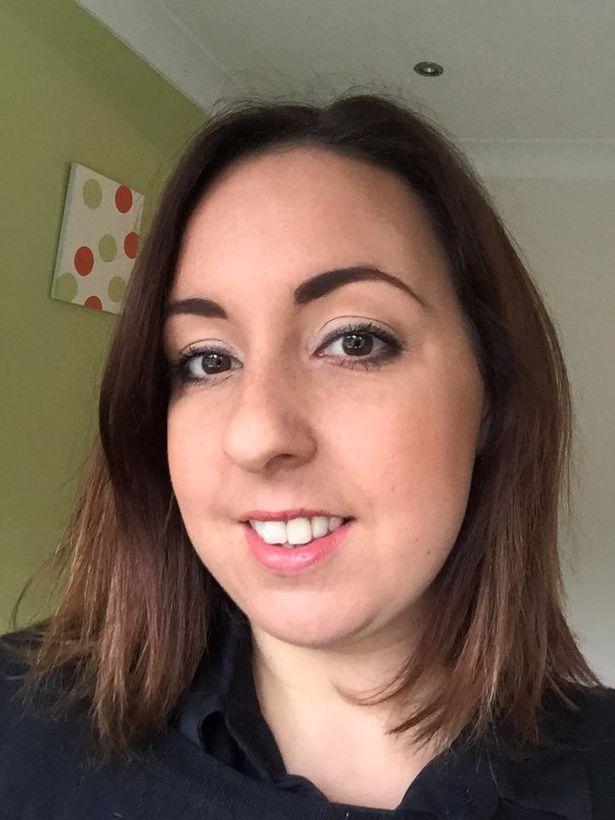stroke: (179, 229, 419, 601)
